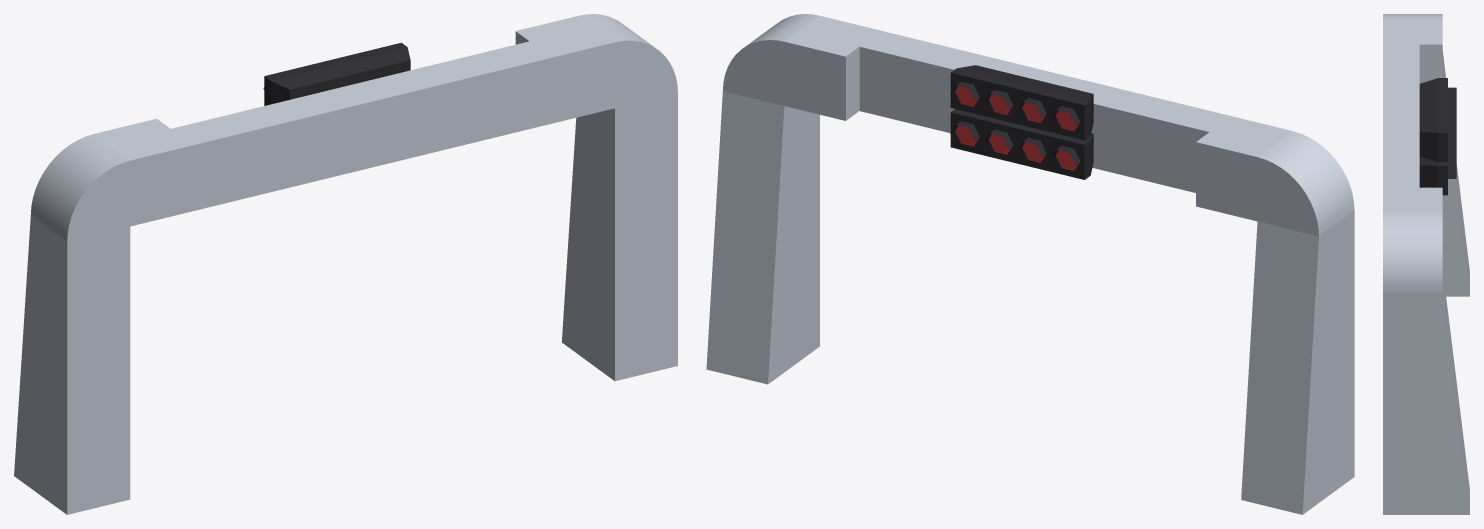
File: halo_portico_salida.obj
3 views of the same model, side by side, from view 1: azimuth 30°, elevation 25°; view 2: azimuth 150°, elevation 25°; view 3: azimuth 270°, elevation 25° (orthographic). The views are drawn at different scales.
Visible parts, largest first — view 1: overheadLights; view 2: overheadLights; view 3: overheadLights.
Boxes of the visible parts, <box> form: overheadLights: <box>14,14,677,514</box>; overheadLights: <box>706,14,1354,514</box>; overheadLights: <box>1383,14,1469,514</box>.
Size of the model in its own units: 1.26 by 0.6939 by 0.19.
